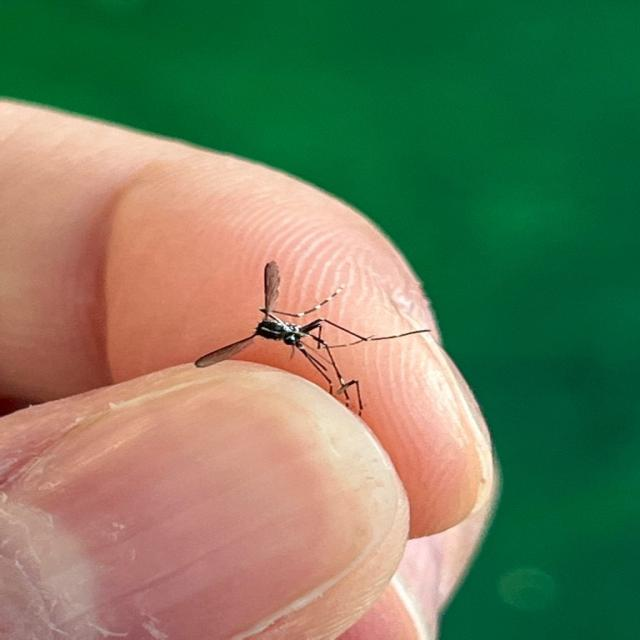albopictus: (182, 263, 429, 422)
